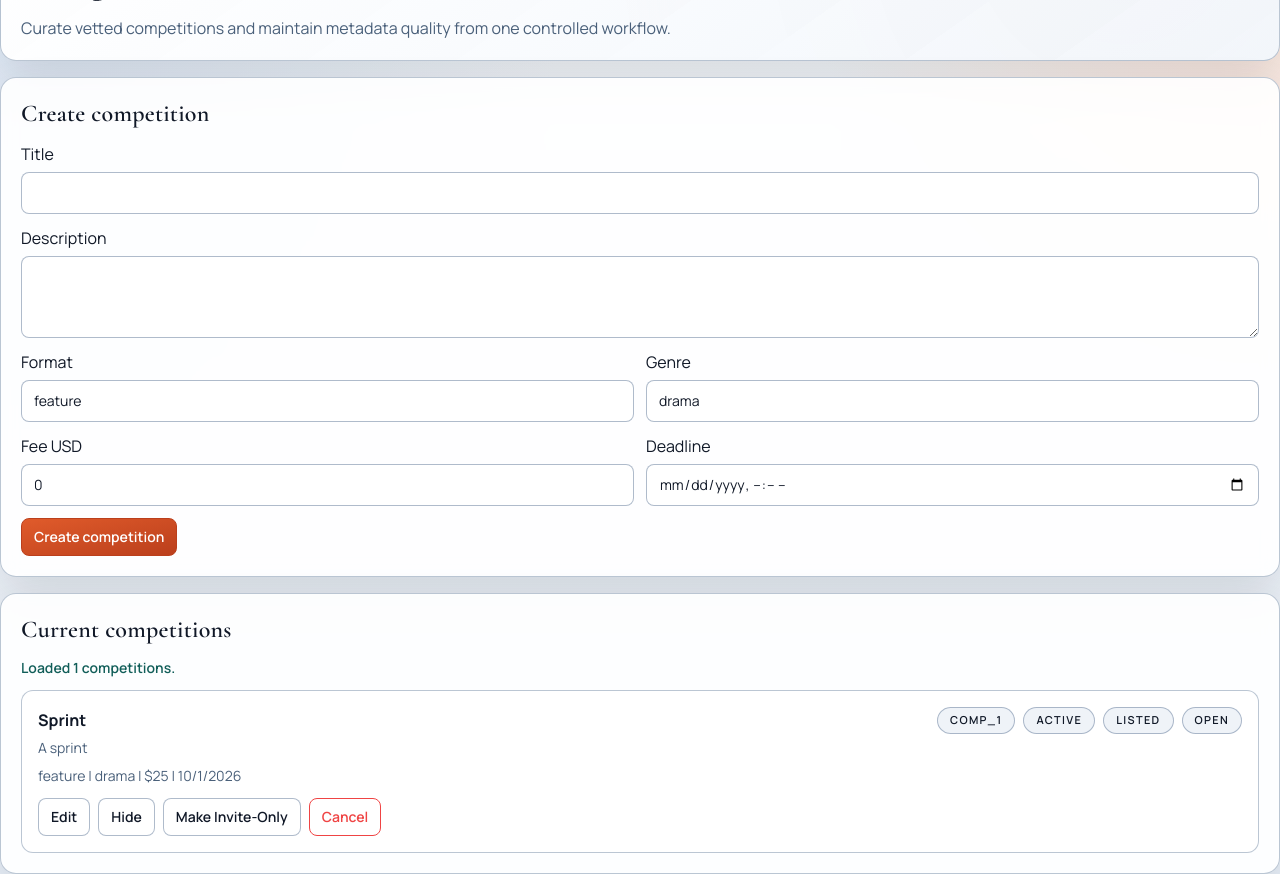
AdminCompetitionsPage › edits an existing competition via edit button
(page scrolled)
Expected: the text "Sprint" is shown, [38,708,86,732]
Click the button "Edit". click: click(64, 816)
box: [38,798,90,836]
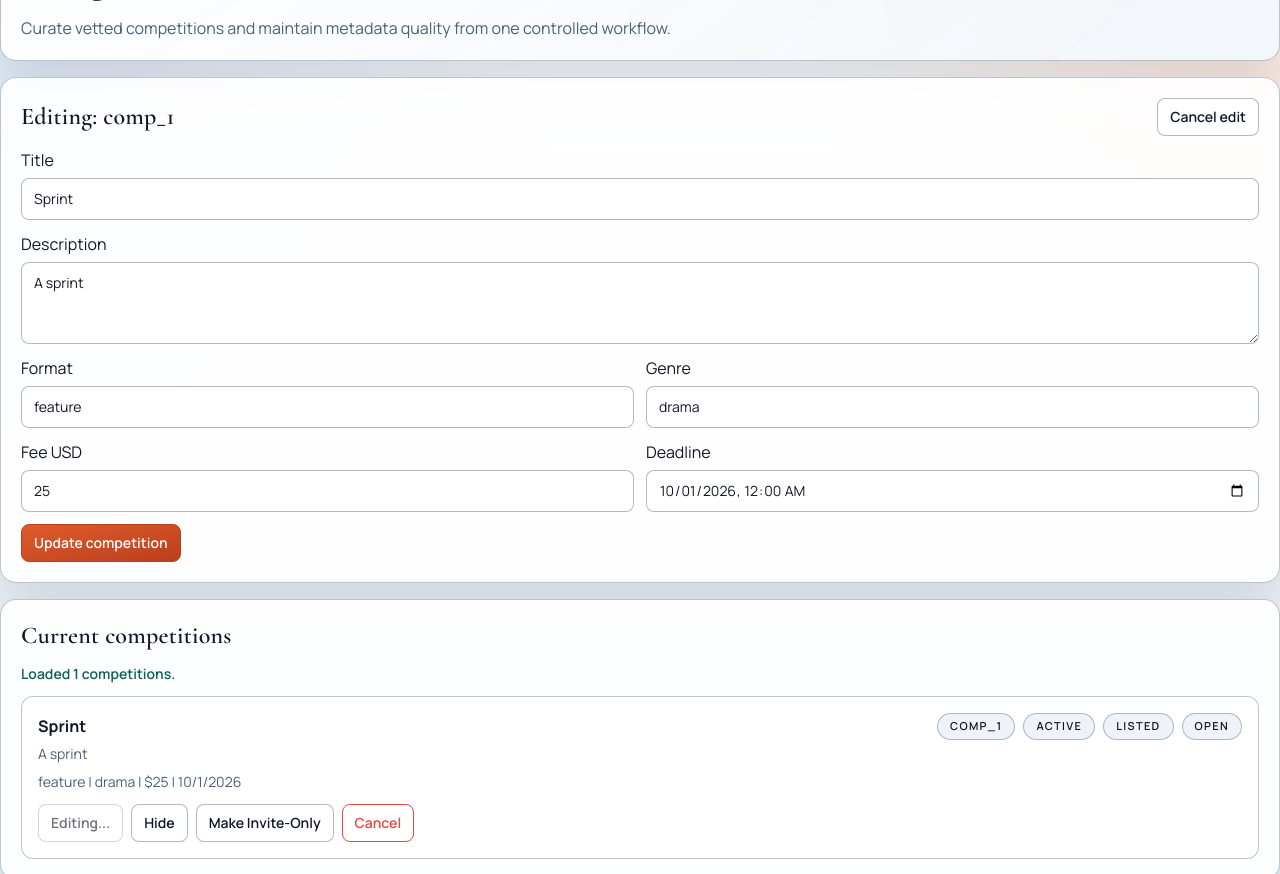
Expected: the field labelled "Title" holds "Sprint"
# Update the title
Replace the text in the field labelled "Title" with "Sprint v2". click: (640, 199)
box: [21,178,1259,220]
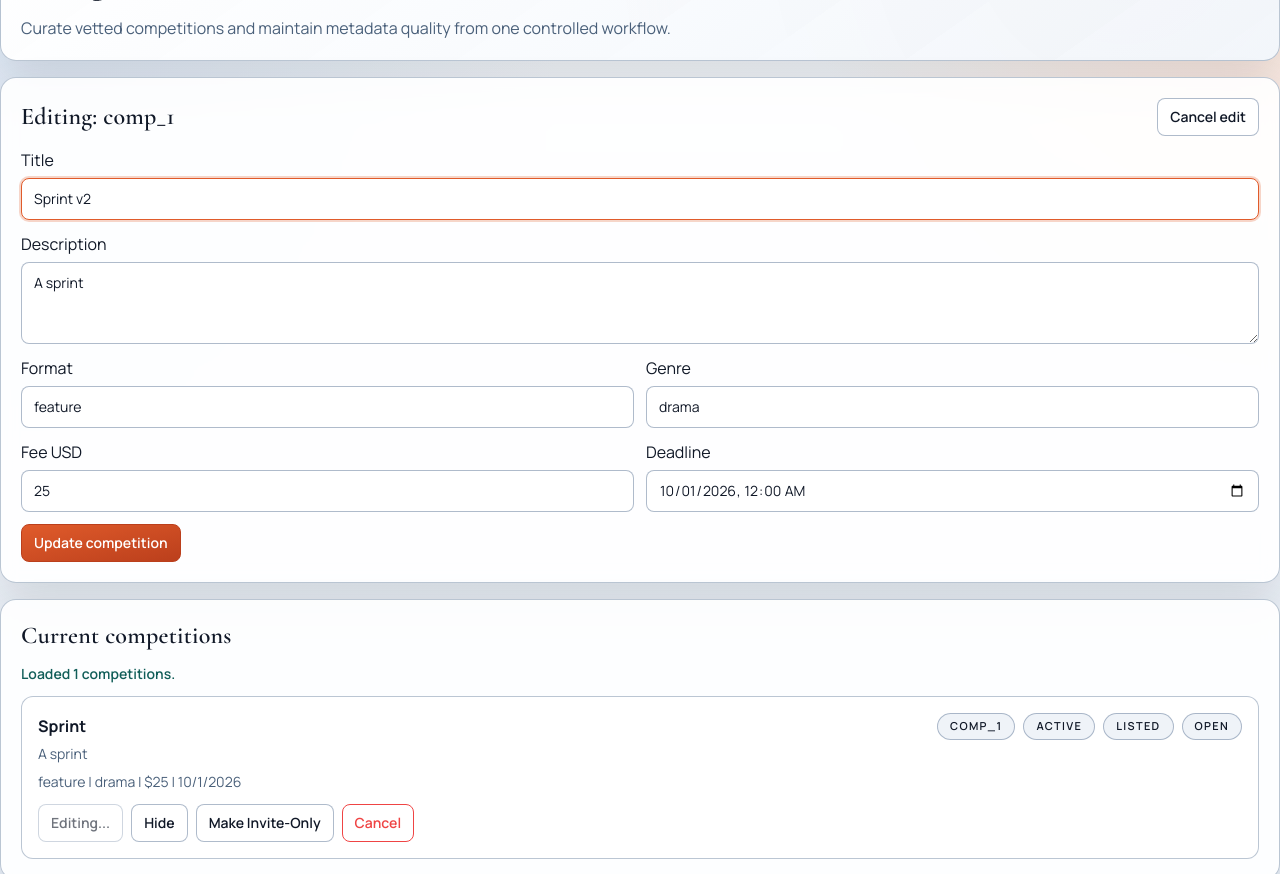
Click the button "Update competition". click: click(101, 543)
box: [21,524,181,562]
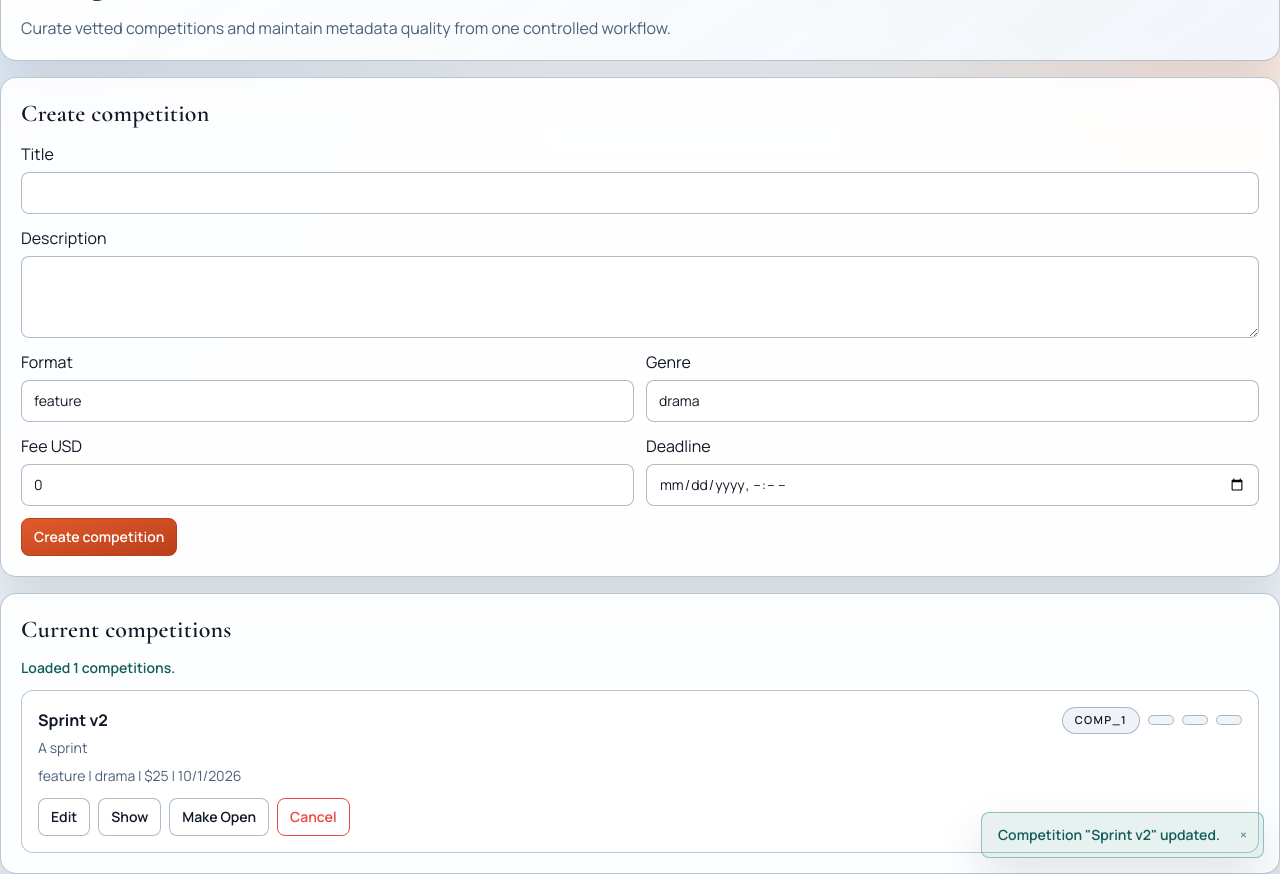
Expected: the text "Competition \"Sprint v2\" updated." is shown, [998,825,1220,845]
